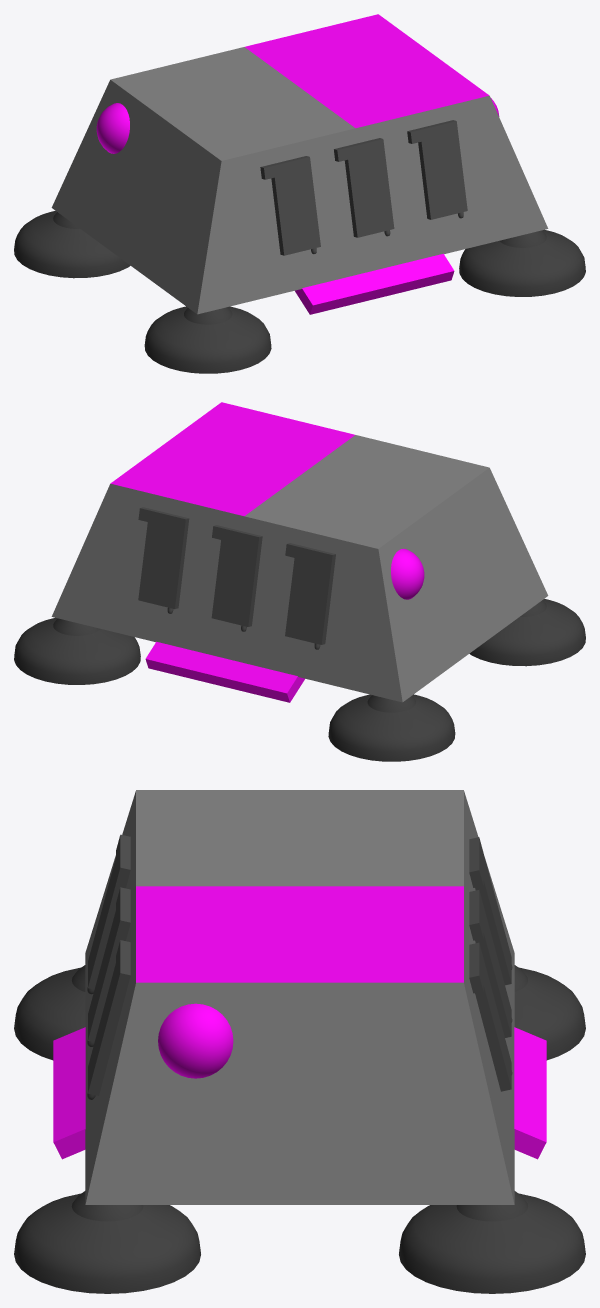
File: Engineer.fbx
3 views of the same model, one above another, from view 1: azimuth 30°, elevation 25°; view 2: azimuth 150°, elevation 25°; view 3: azimuth 270°, elevation 25° (orthographic). The views are drawn at different scales.
Parts seen in each view (by area): view 1: Cube.026, Sphere.003, Cylinder.030, Cube.033, Sphere.002; view 2: Cube.026, Sphere.003, Cylinder.034, Cube.033, Sphere.002; view 3: Cube.026, Sphere.003, Cube.033, Cylinder.030, Cylinder.034, Sphere.001.
Part boxes in pixels (x1,y1,x2,y2): Cube.026: (51,14,548,314); Sphere.003: (14,211,585,373); Cylinder.030: (260,120,467,255); Cube.033: (295,253,454,314); Sphere.002: (96,103,129,153); Cube.026: (51,402,548,702); Sphere.003: (14,599,585,761); Cylinder.034: (138,507,335,649); Cube.033: (145,641,304,702); Sphere.002: (391,548,424,599); Cube.026: (85,790,514,1204); Sphere.003: (14,965,585,1293); Cube.033: (53,1027,546,1159); Cylinder.030: (87,834,130,1099); Cylinder.034: (469,837,512,1091); Sphere.001: (158,1003,233,1078).
Bounding box in the file's own units: 284 × 111 × 225.
